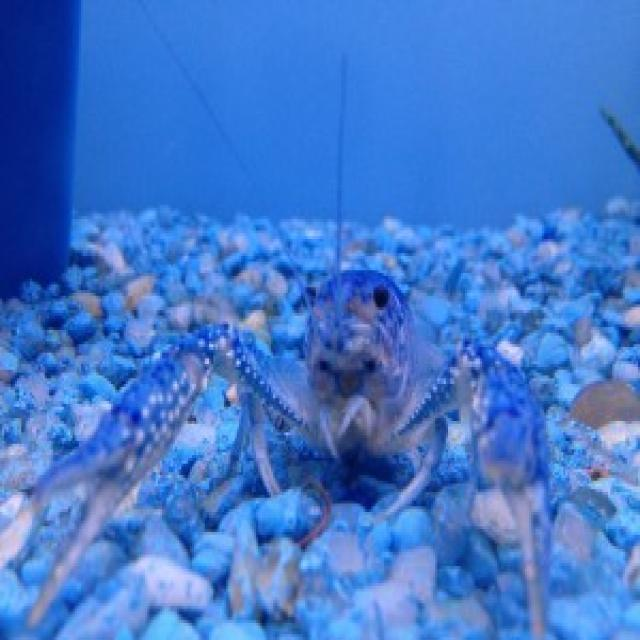lobsters: (72, 59, 637, 640)
